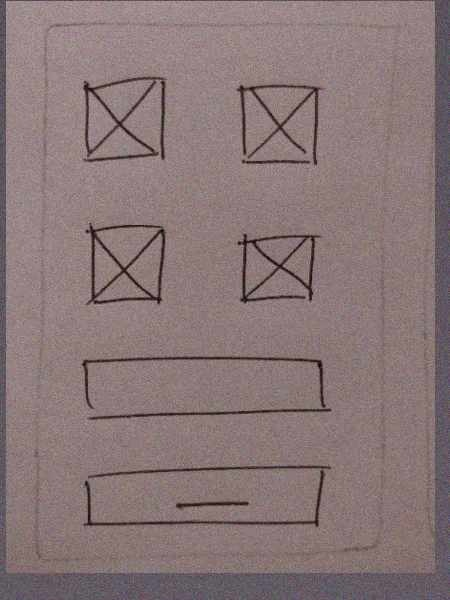button: (72, 462, 335, 535)
image: (75, 65, 175, 174), (225, 72, 327, 173), (77, 215, 174, 314), (230, 222, 325, 312)
text_input: (75, 351, 335, 424)
